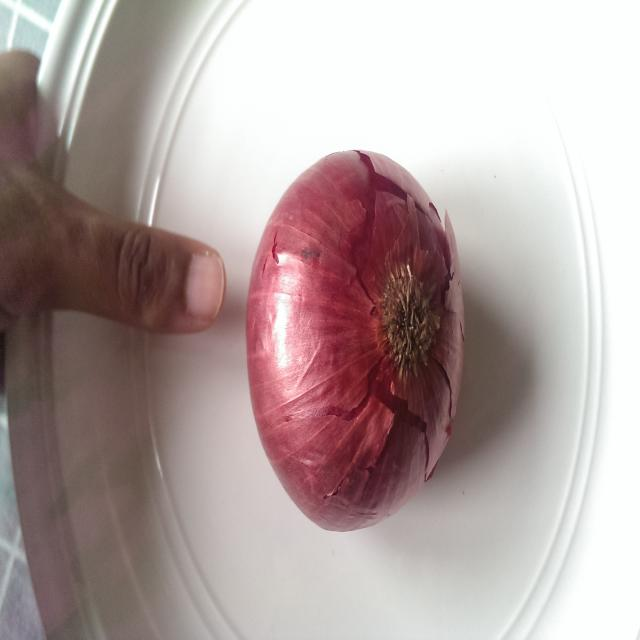onion: (245, 147, 465, 533)
